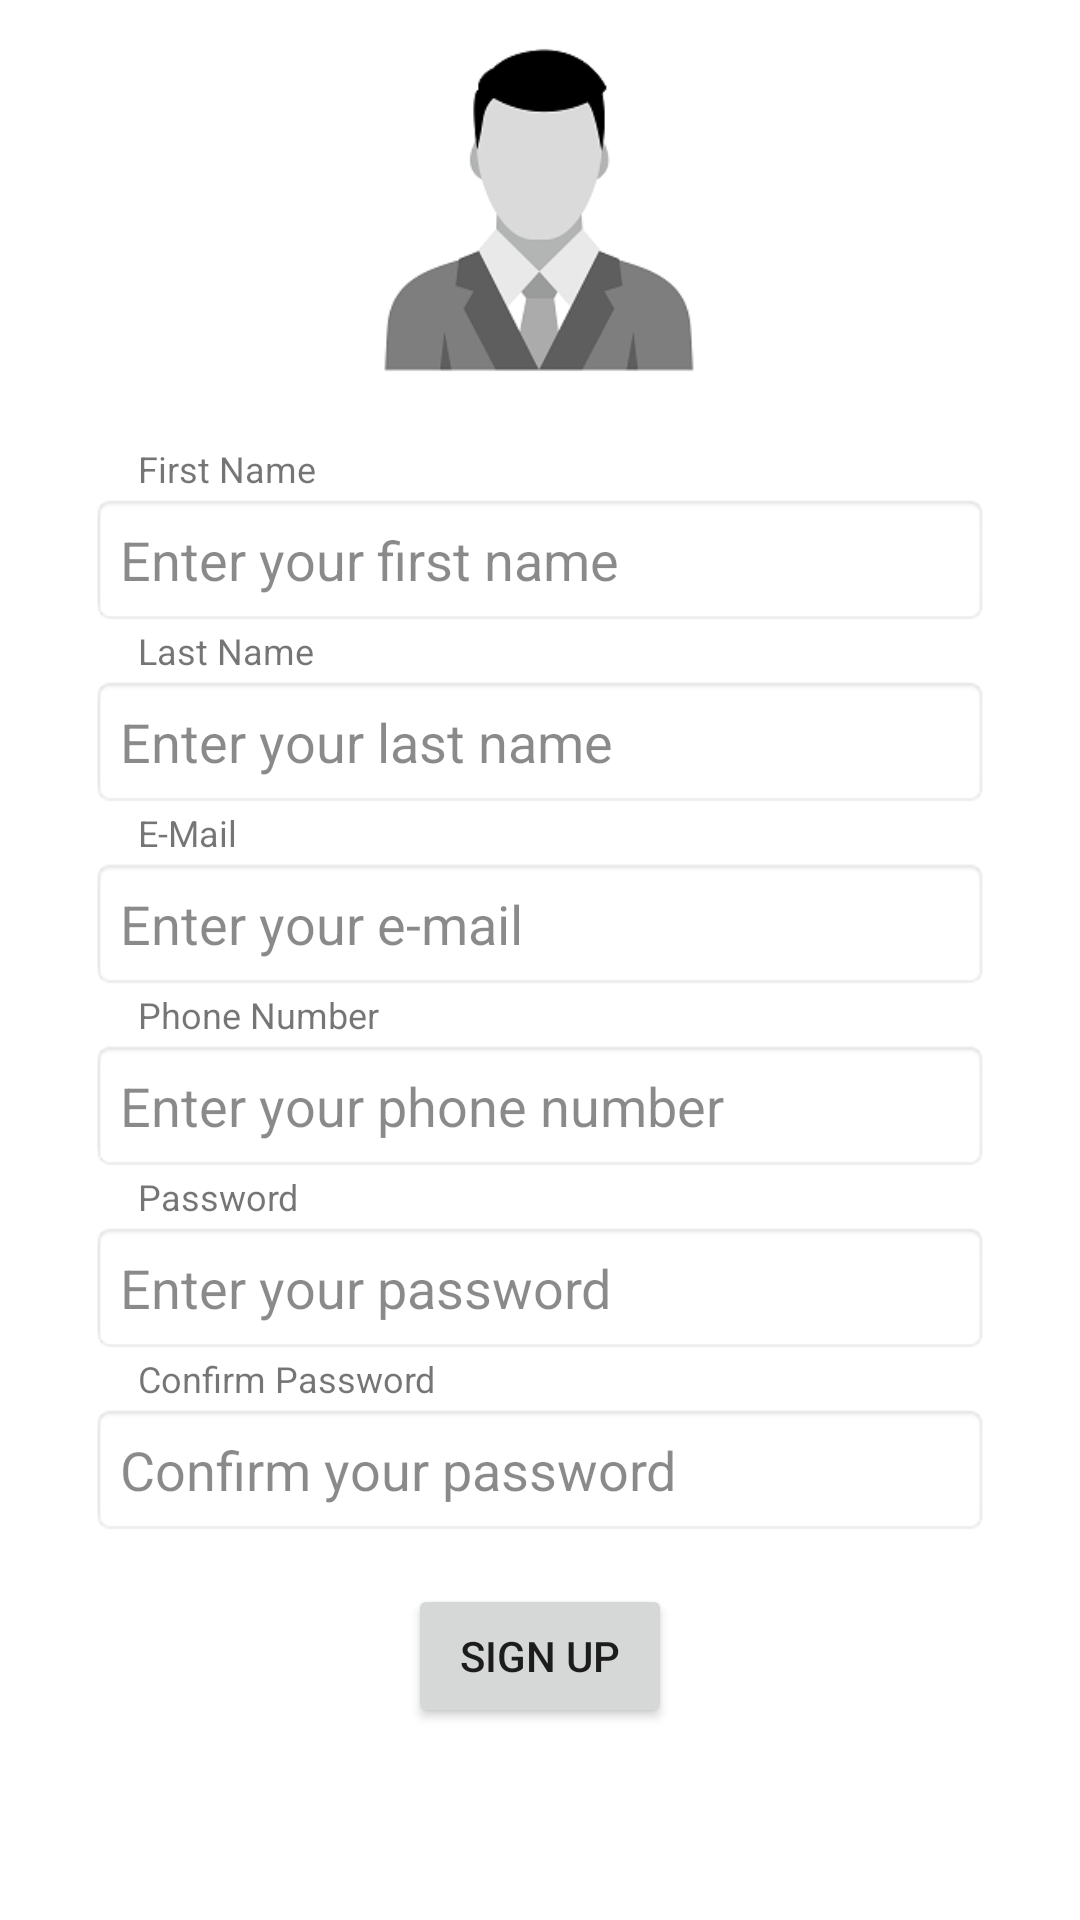

Icons on this 1080 × 1920 Android screen, each with the point to tap as point (x, y):
User Image: point (539, 210)
